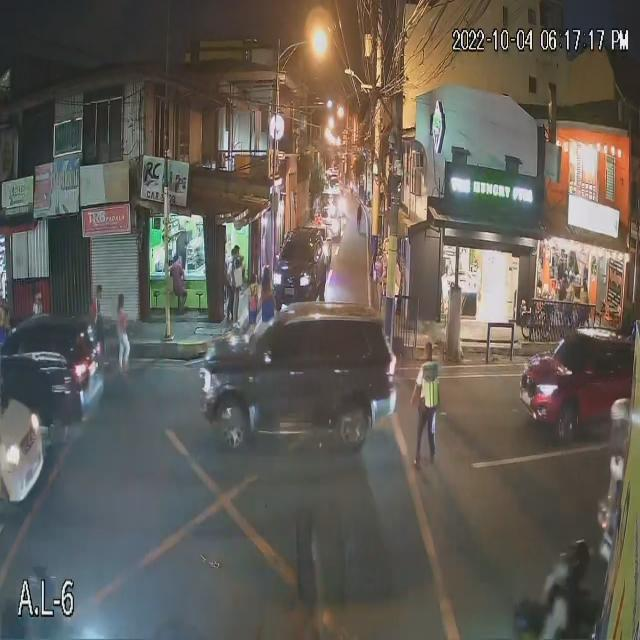helmet: (562, 541, 592, 579)
motorcycle: (518, 600, 601, 640)
rider: (556, 562, 575, 633)
